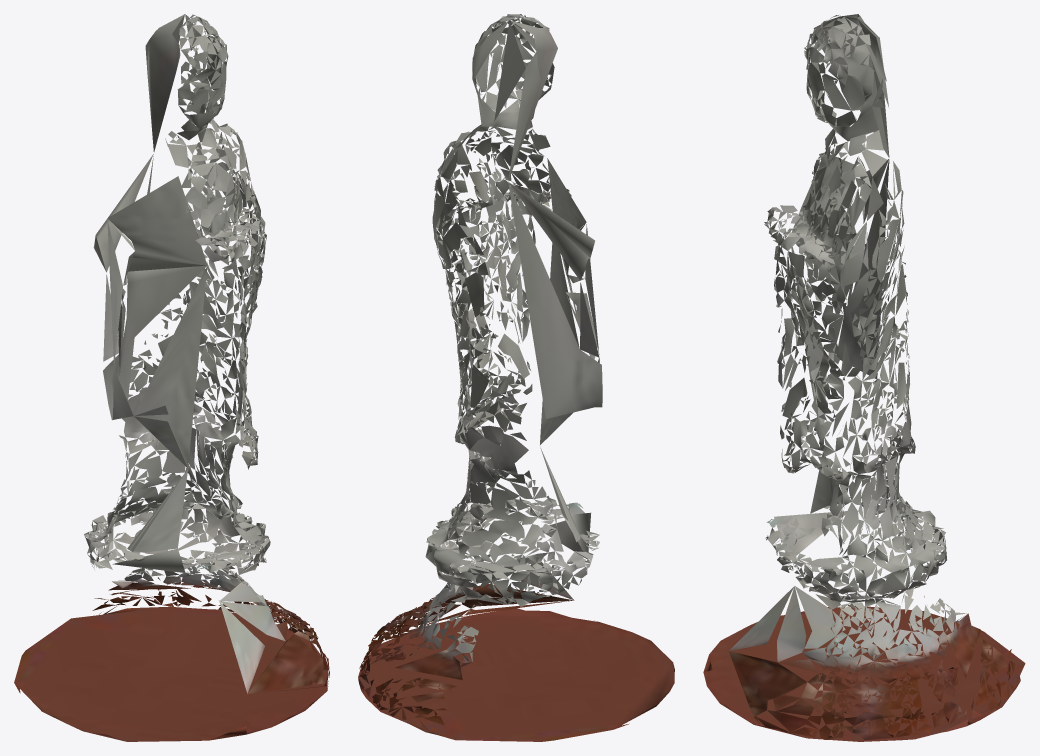
The model's file is far.glb.
3 views of the same model, side by side, from view 1: azimuth 30°, elevation 25°; view 2: azimuth 150°, elevation 25°; view 3: azimuth 270°, elevation 25° (orthographic).
Visible parts, largest first — view 1: statue-017; view 2: statue-017; view 3: statue-017.
Part boxes in pixels (x1,y1,x2,y2): statue-017: (14, 14, 329, 741); statue-017: (358, 14, 674, 741); statue-017: (703, 14, 1025, 741).
Size of the model in its own units: 0.4337 by 0.998 by 0.4395.
Materials: 1 (1 with a texture image).
